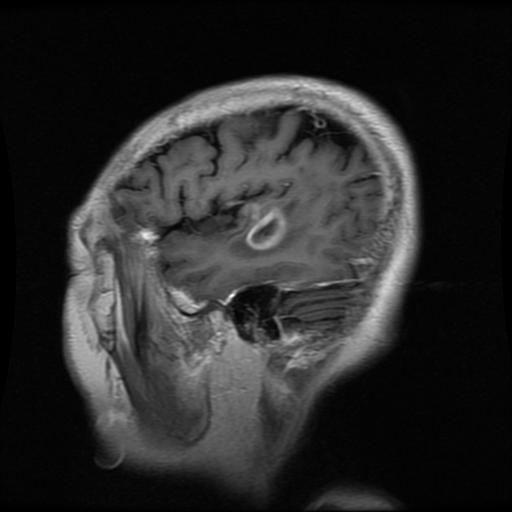Gliomia_tumour: (245, 205, 286, 249)
